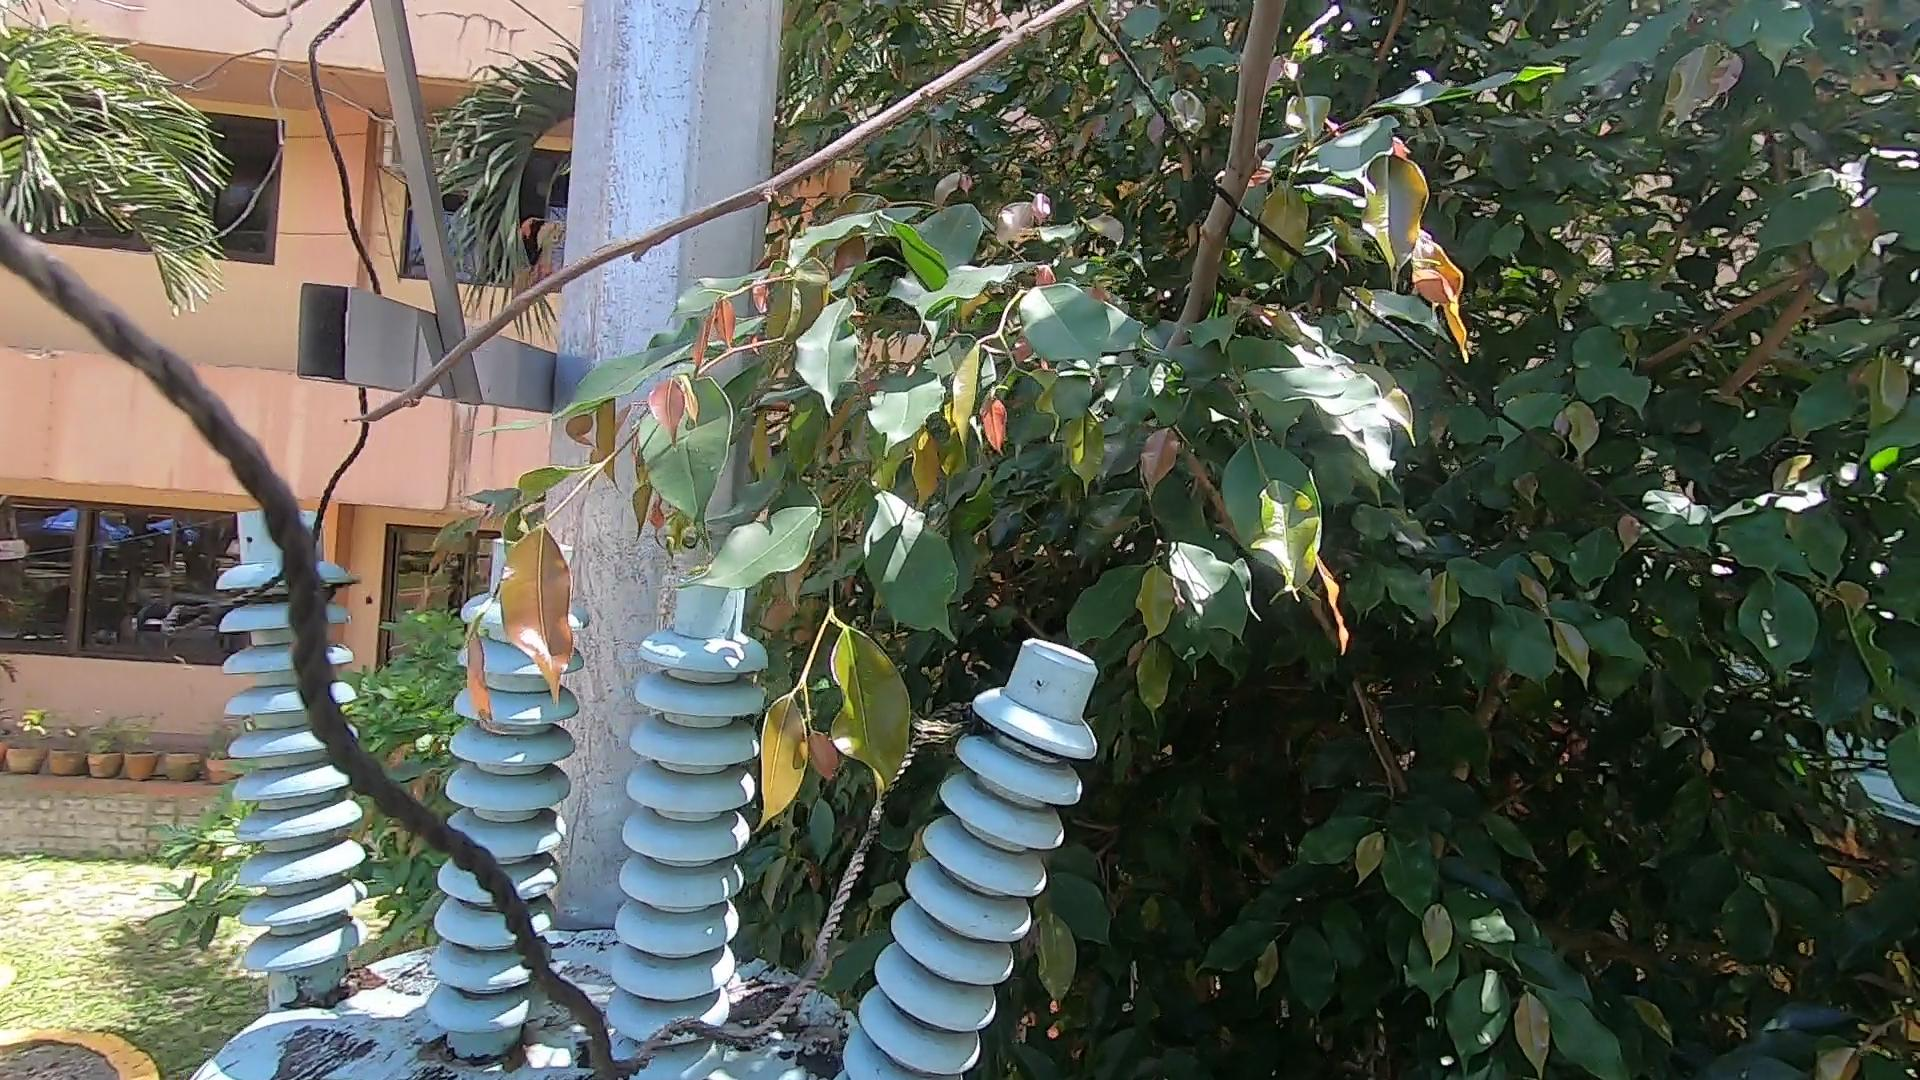leaf: (281, 957, 406, 1009), (489, 1025, 527, 1075), (415, 1034, 452, 1077)
tree branch: (328, 1, 1323, 571)
